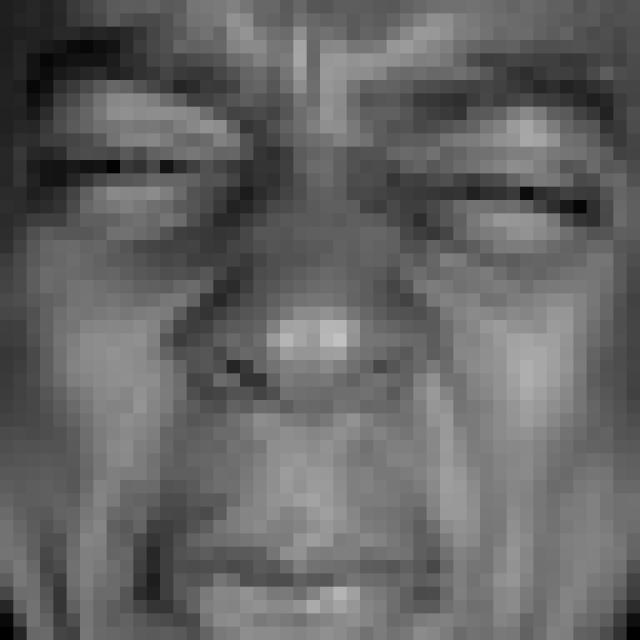disgust: (18, 15, 633, 640)
